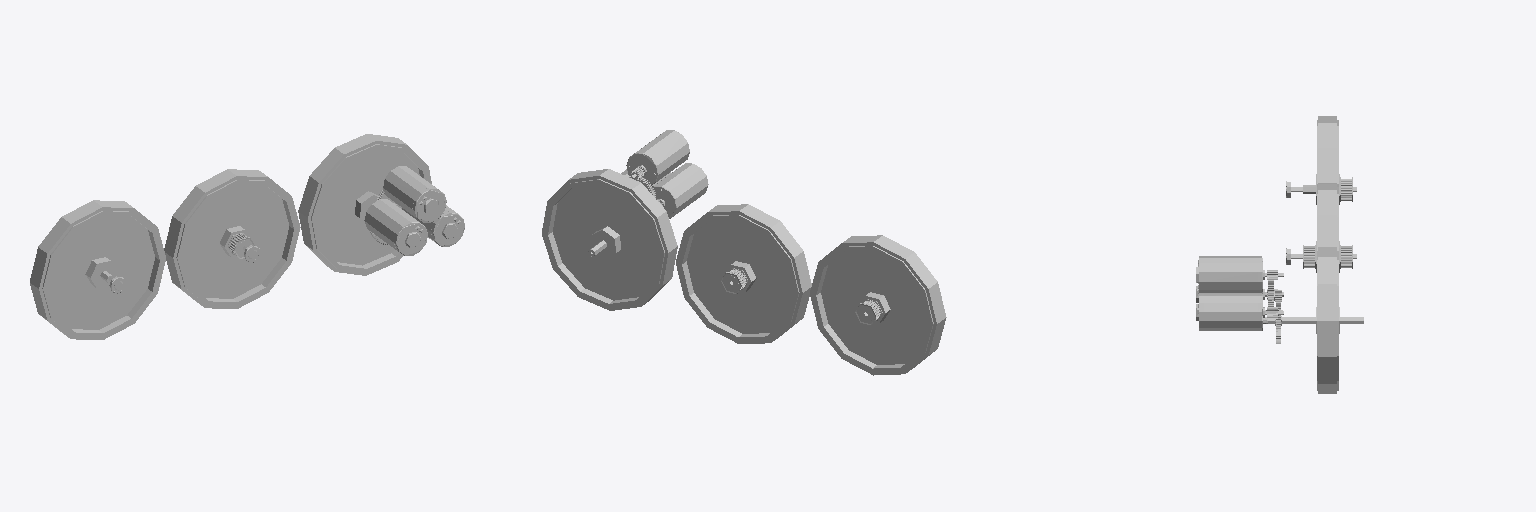
File: robot-left-drive.obj
The picture shows the model from 3 angles: view 1: azimuth 30°, elevation 25°; view 2: azimuth 150°, elevation 25°; view 3: azimuth 270°, elevation 25°; orthographic projection.
Visible parts, largest first — view 1: Robot; view 2: Robot; view 3: Robot.
Part boxes in pixels (x1,y1,x2,y2): Robot: (30, 134, 464, 339); Robot: (542, 130, 946, 375); Robot: (1196, 116, 1363, 393).
Bounding box in the file's own units: 30.75 × 10.02 × 11.32.